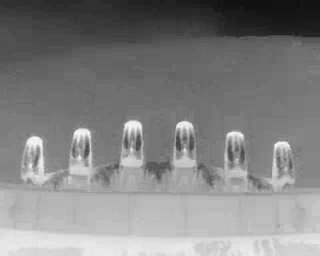claw: (173, 120, 199, 170), (20, 135, 45, 181), (121, 120, 145, 167), (70, 128, 93, 177), (227, 130, 249, 177), (273, 141, 298, 181)
